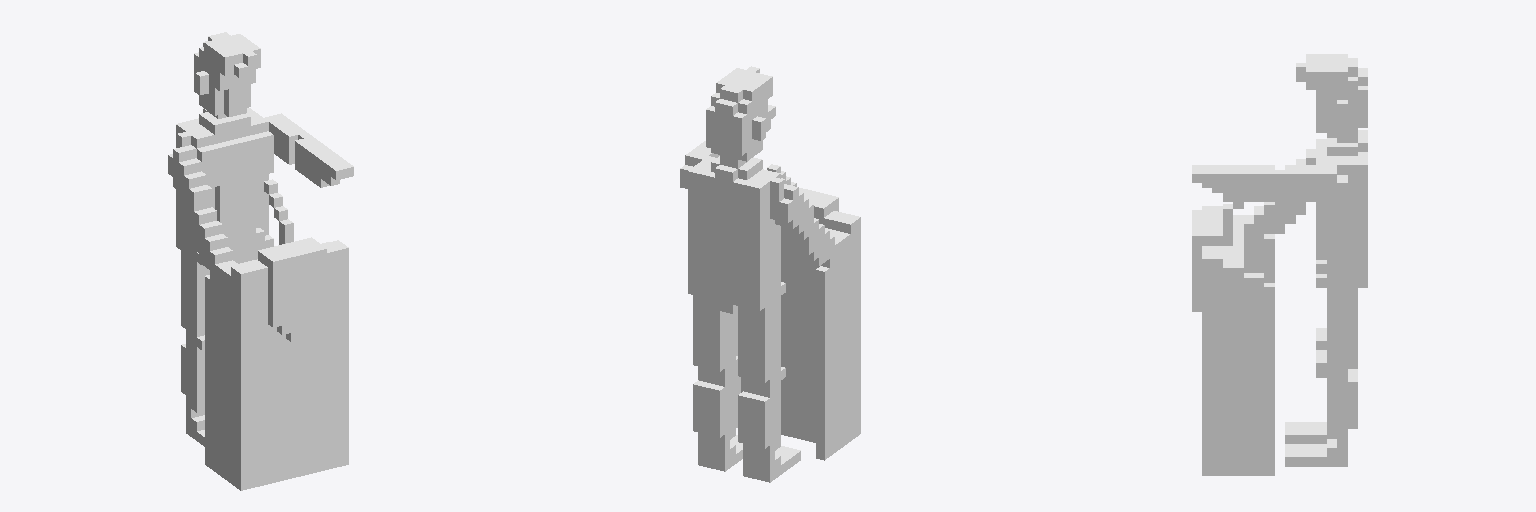
The model's file is Dictators-2.obj.
The picture shows the model from 3 angles: view 1: azimuth 30°, elevation 25°; view 2: azimuth 150°, elevation 25°; view 3: azimuth 270°, elevation 25°; orthographic projection.
Parts seen in each view (by area): view 1: object 1; view 2: object 1; view 3: object 1.
Boxes of the visible parts, box(x1,y1,x2,y2) form: object 1: box(168, 32, 353, 490); object 1: box(680, 66, 860, 482); object 1: box(1192, 54, 1367, 475).
Bounding box in the file's own units: 1.2 × 4.1 × 1.7.